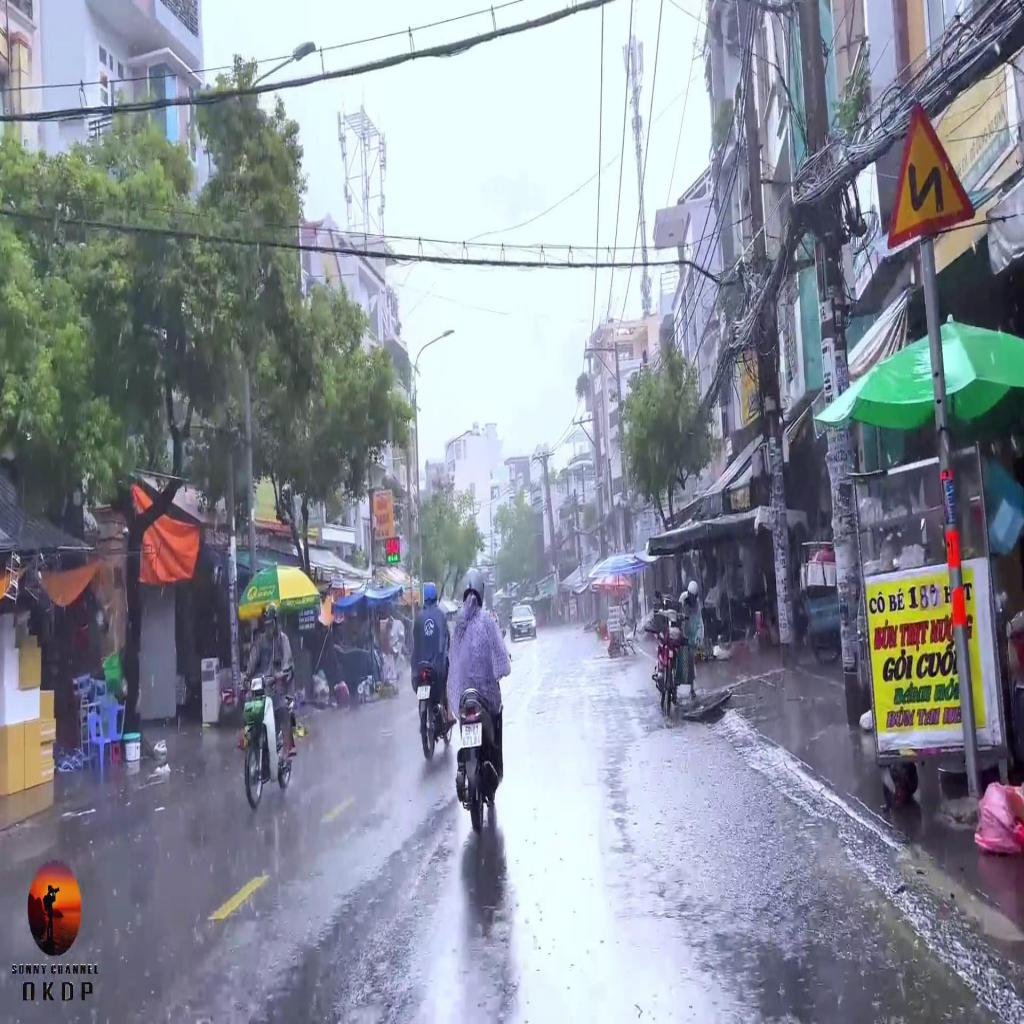cho_ngoat_nguy_hiem_lien_tiep: (888, 92, 978, 251)
